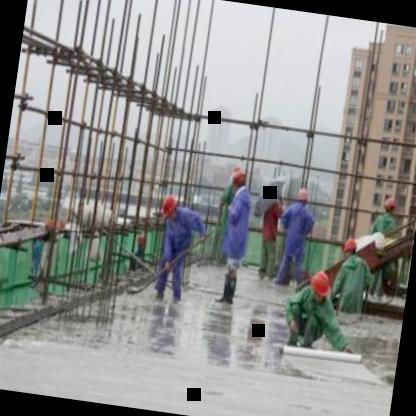helmet: (302, 266, 337, 310), (158, 186, 183, 226), (338, 233, 362, 266), (229, 166, 250, 195), (380, 192, 400, 216), (294, 186, 312, 206)
